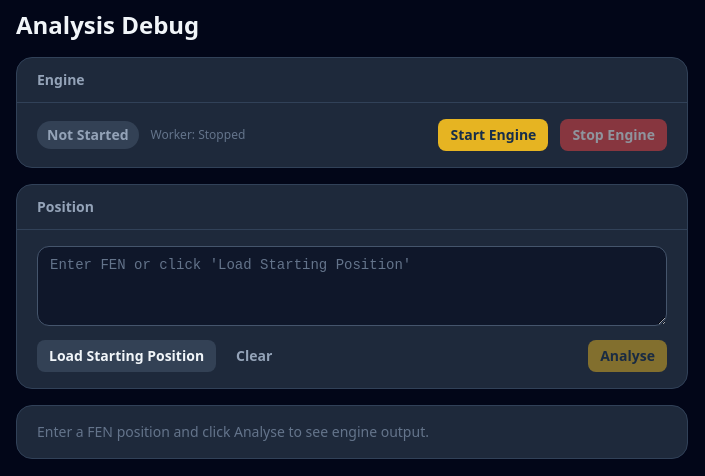
Test: AnalysisPage › clears FEN textarea
Click the button "Load Starting Position" at (127, 356), box [37, 340, 216, 372]
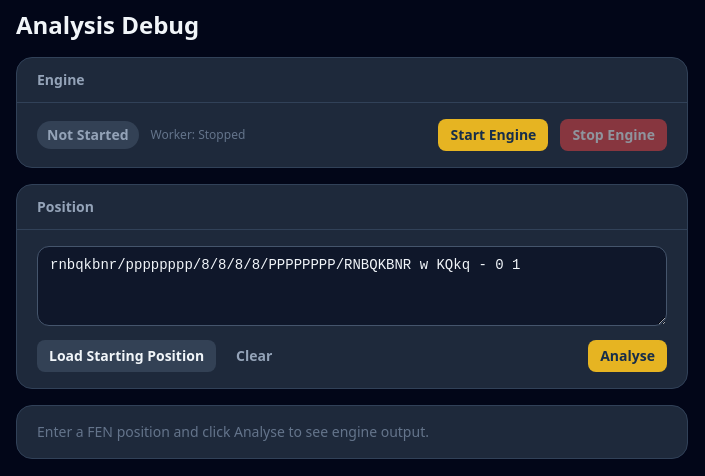
Click the button "Clear" at (254, 356), box [224, 340, 284, 372]
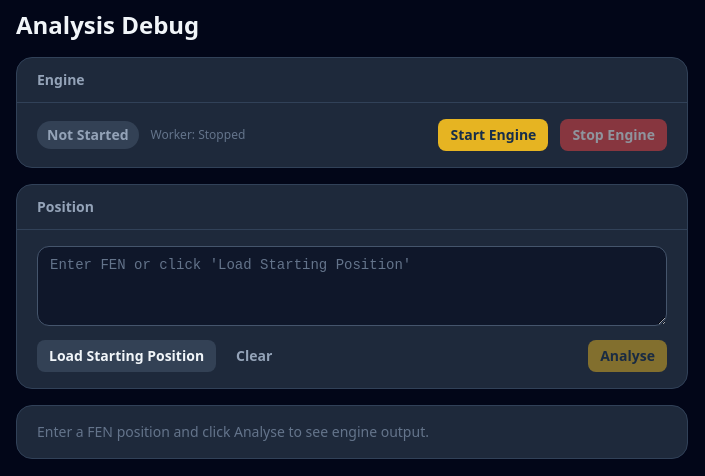
Expected: the text box with placeholder "Enter FEN or click 'Load Starting Position'" is empty, [37, 246, 667, 326]
